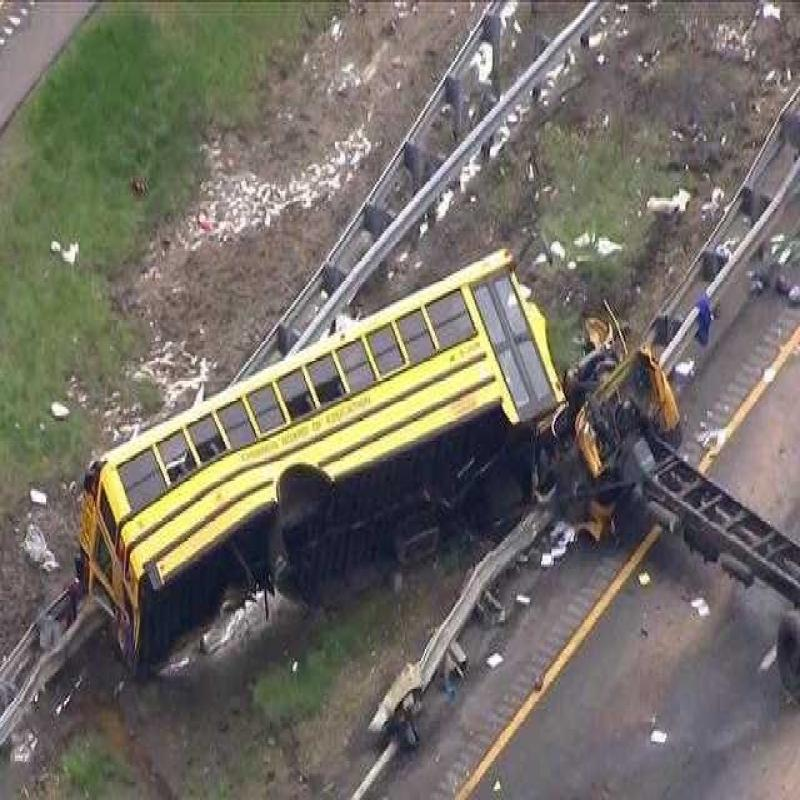bus: (84, 381, 550, 620)
